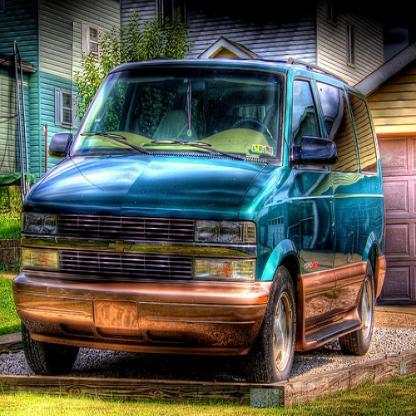car: (9, 48, 392, 380)
